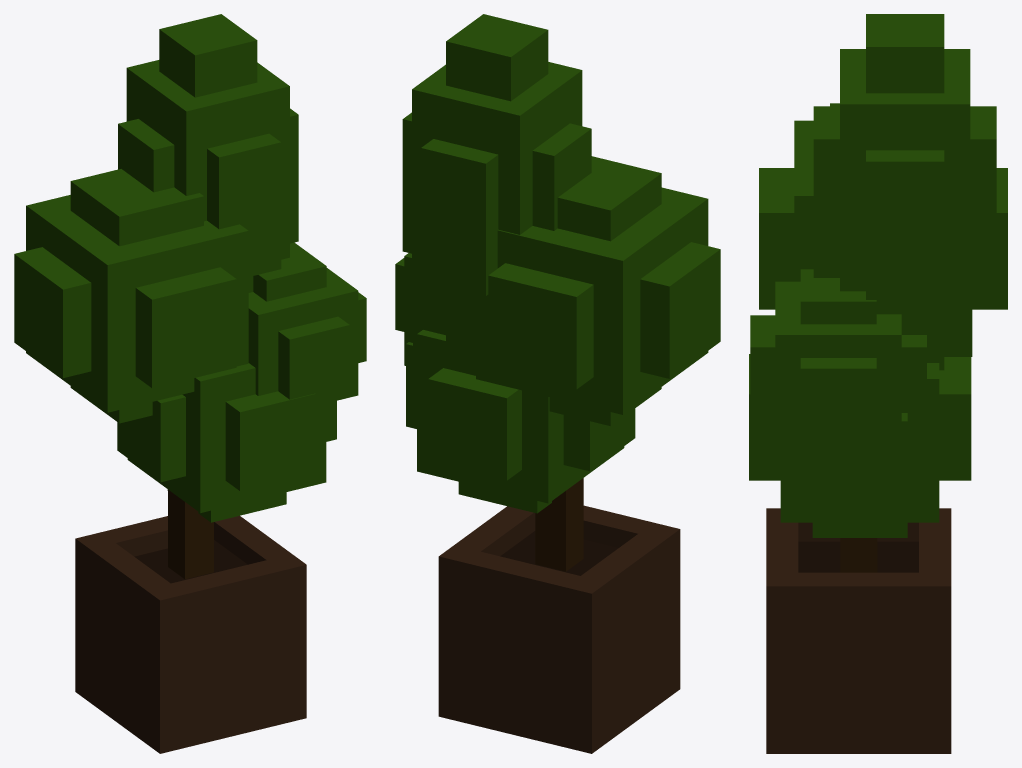
File: tree3.fbx
The picture shows the model from 3 angles, left to right: view 1: azimuth 30°, elevation 25°; view 2: azimuth 150°, elevation 25°; view 3: azimuth 270°, elevation 25°; orthographic projection. The views are drawn at different scales.
Visible parts, largest first — view 1: Sphere.008; view 2: Sphere.008; view 3: Sphere.008.
Boxes of the visible parts, x1,y1,x2,y2 form: Sphere.008: (14,14,366,753); Sphere.008: (395,14,720,753); Sphere.008: (749,14,1007,753).
Bounding box in the file's own units: 0.7579 × 1.61 × 0.5358.
